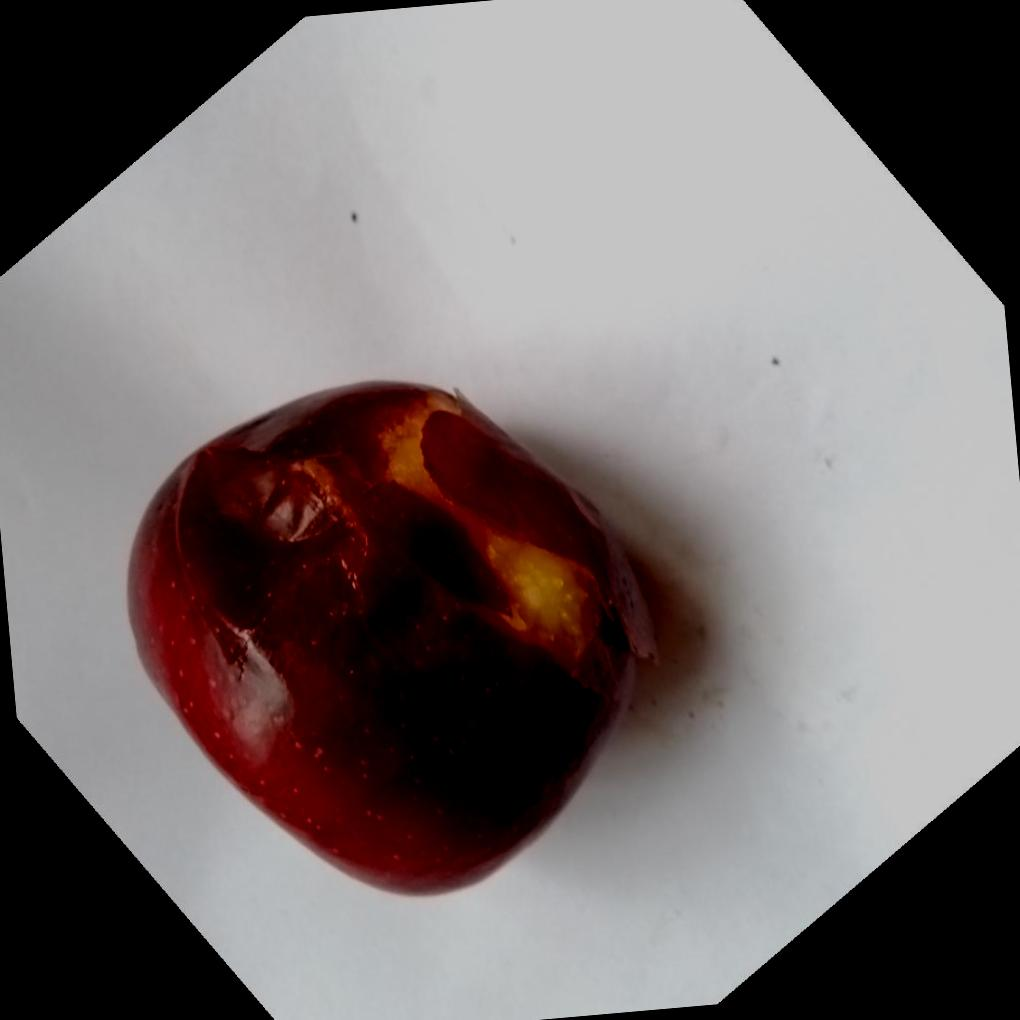FreshOrange: (125, 381, 644, 900)
